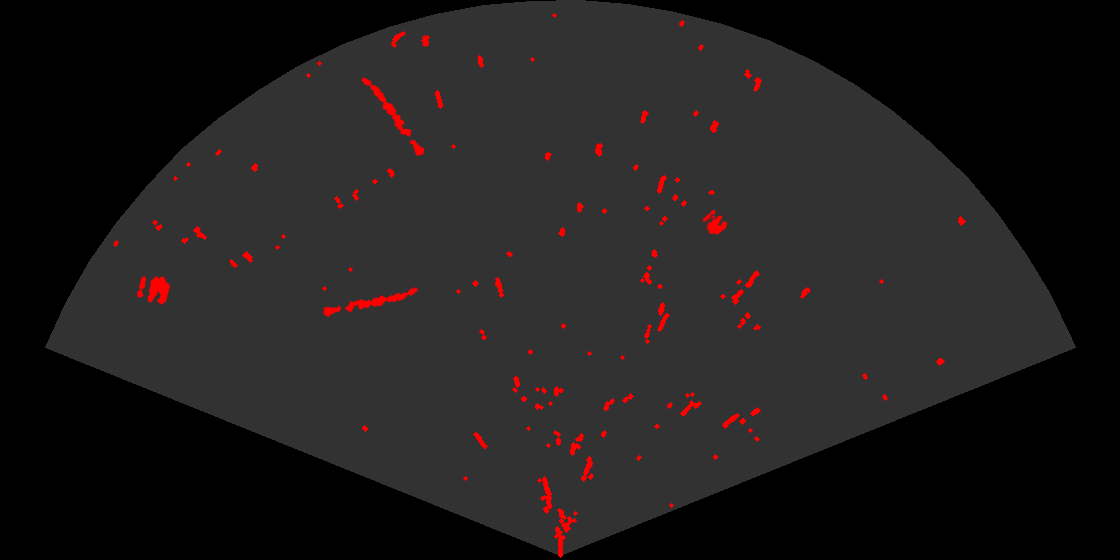ball: (135, 274, 172, 306), (701, 208, 729, 236)
chain: (360, 76, 426, 158), (320, 286, 420, 319)
